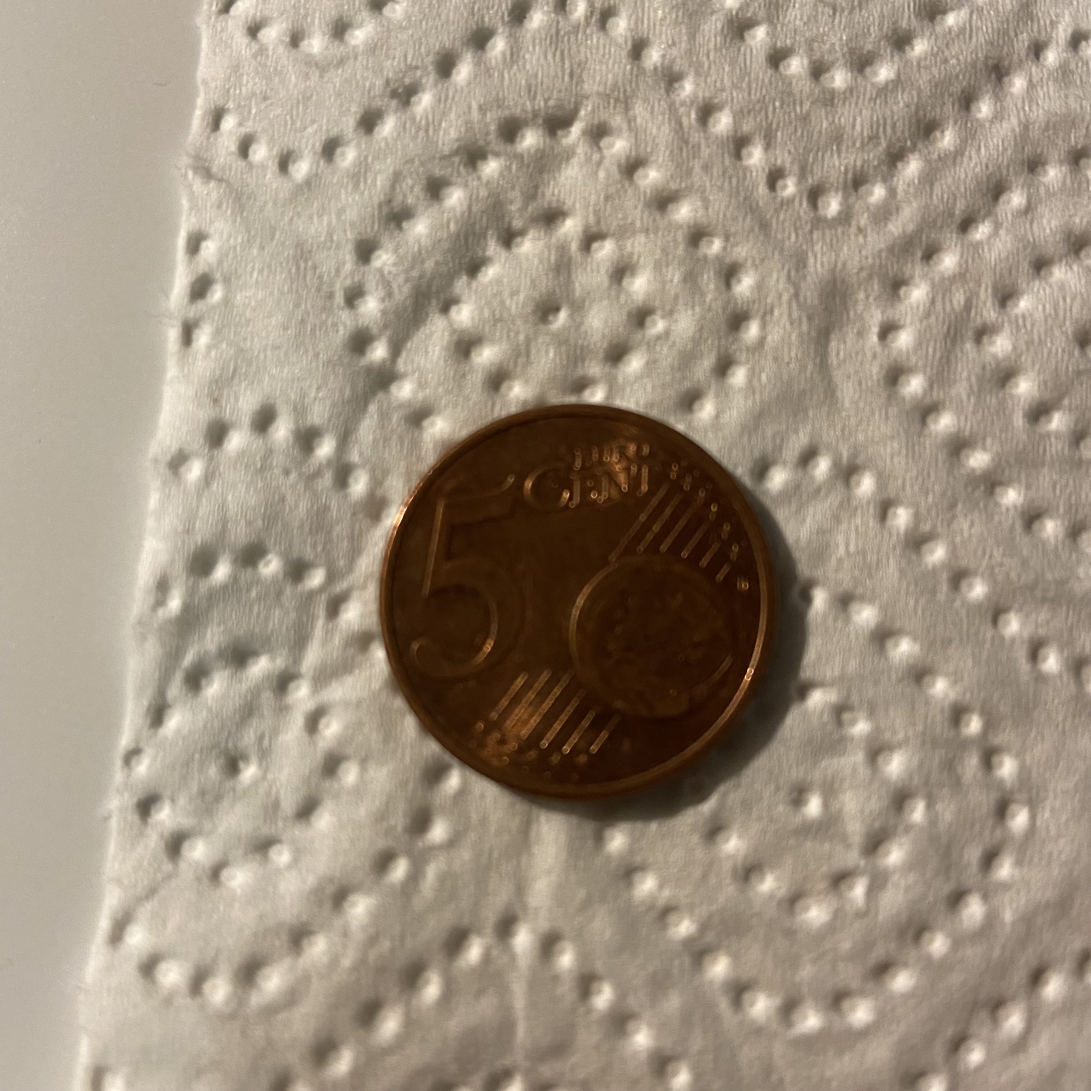5 cent: (370, 393, 790, 800)
